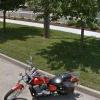Motorcycle: (6, 59, 80, 100)
